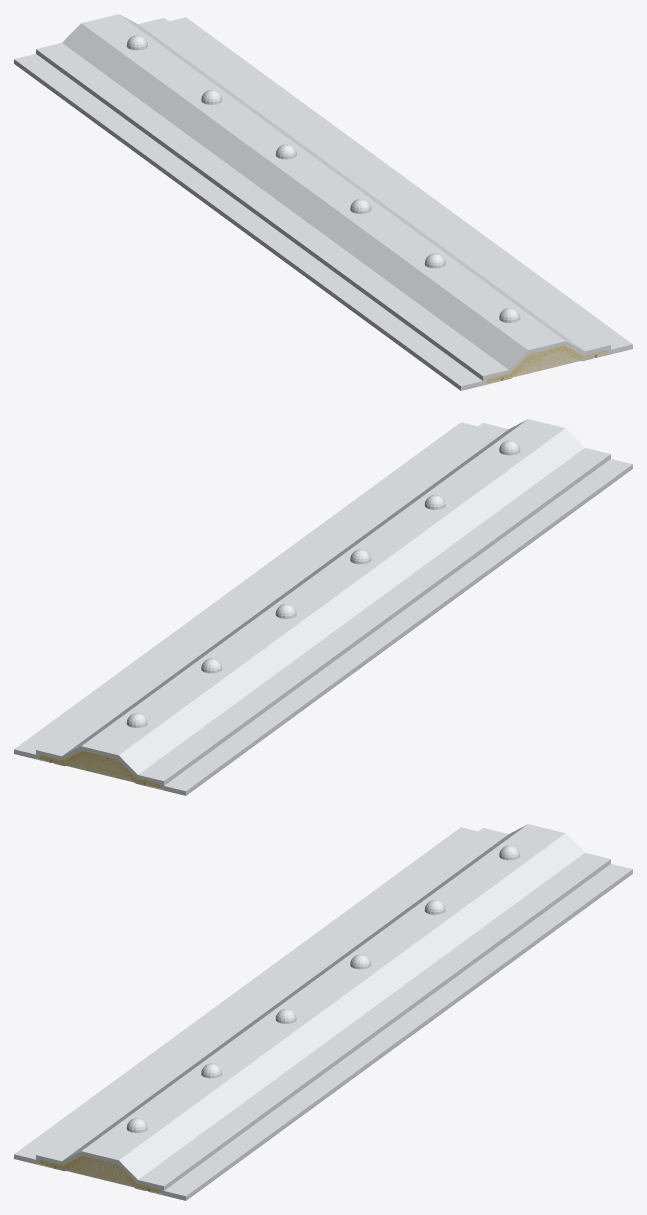
Rendered from rpanel-side-lap-F-8-TYP.glb.
The picture shows the model from 3 angles, top to bottom: view 1: azimuth 30°, elevation 25°; view 2: azimuth 150°, elevation 25°; view 3: azimuth 330°, elevation 25°; orthographic projection.
Visible parts, largest first — view 1: topcoat__topcoat, topcoat__topcoat_pan_l, topcoat__topcoat_pan_r, flex__flex, primer__primer, existing__panel_a; view 2: topcoat__topcoat, topcoat__topcoat_pan_l, topcoat__topcoat_pan_r, flex__flex, primer__primer, existing__panel_a; view 3: topcoat__topcoat, topcoat__topcoat_pan_r, topcoat__topcoat_pan_l, flex__flex, primer__primer, existing__panel_b.
Part boxes in pixels (box(x1,y1,x2,y2)): topcoat__topcoat: box(36, 14, 610, 384); topcoat__topcoat_pan_l: box(14, 54, 483, 390); topcoat__topcoat_pan_r: box(169, 17, 632, 353); flex__flex: box(486, 345, 607, 383); primer__primer: box(490, 349, 603, 382); existing__panel_a: box(14, 63, 511, 390); topcoat__topcoat: box(36, 419, 610, 789); topcoat__topcoat_pan_l: box(163, 459, 632, 795); topcoat__topcoat_pan_r: box(14, 422, 477, 758); flex__flex: box(39, 750, 160, 788); primer__primer: box(43, 754, 156, 787); existing__panel_a: box(135, 468, 632, 795); topcoat__topcoat: box(36, 824, 610, 1194); topcoat__topcoat_pan_r: box(163, 864, 632, 1200); topcoat__topcoat_pan_l: box(14, 827, 477, 1163); flex__flex: box(39, 1156, 160, 1193); primer__primer: box(43, 1160, 156, 1192); existing__panel_b: box(148, 873, 632, 1200).
Size of the model in its own units: 0.4064 by 0.0764 by 1.83.
